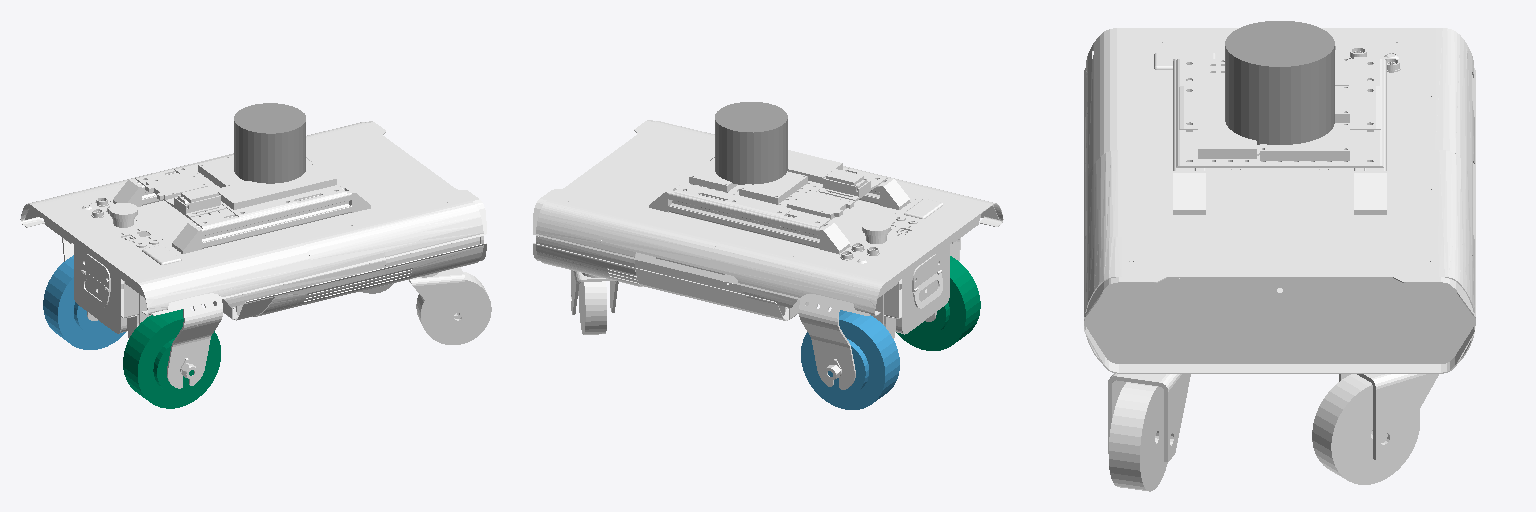
The robot description file, URDF, robot "neor":
<?xml version="1.0" encoding="utf-8"?>
<!-- This URDF was automatically created by SolidWorks to URDF Exporter! Originally created by [author] ([email redacted]) 
     Commit Version: 1.5.1-0-g916b5db  Build Version: 1.5.7152.31018
     For more information, please see http://wiki.ros.org/sw_urdf_exporter -->
<robot
  name="neor">
  <link 
    name="base_link">
    <inertial>
      <origin
        xyz="0.167879507365628 -0.00359252647980702 0.119298610168138"
        rpy="0 0 0" />
      <mass
        value="1.99769813489116" />
      <inertia
        ixx="0.00884194890576968"
        ixy="-2.85763205109085E-07"
        ixz="1.13692269308844E-06"
        iyy="0.0122849475045731"
        iyz="2.62546849263556E-05"
        izz="0.0198557145704335" />
    </inertial>
    <visual>
      <origin
        xyz="0 0 0"
        rpy="0 0 0" />
      <geometry>
        <mesh
          filename="package://neor/meshes/base_link.STL" />
      </geometry>
      <material
        name="">
        <color
          rgba="1 1 1 1" />
      </material>
    </visual>
    <collision>
      <origin
        xyz="0 0 0"
        rpy="0 0 0" />
      <geometry>
        <mesh
          filename="package://neor/meshes/base_link.STL" />
      </geometry>
    </collision>
  </link>
  <link
    name="left_wheel_link">
    <inertial>
      <origin
        xyz="0 2.77555756156289E-17 6.93889390390723E-18"
        rpy="0 0 0" />
      <mass
        value="5.42406230688666" />
      <inertia
        ixx="0.00666461186501377"
        ixy="-4.34780728173011E-17"
        ixz="-3.46065314223795E-08"
        iyy="0.0108754737237616"
        iyz="1.48898597957356E-17"
        izz="0.00666462264232009" />
    </inertial>
    <visual>
      <origin
        xyz="0 0 0"
        rpy="0 0 0" />
      <geometry>
        <mesh
          filename="package://neor/meshes/left_wheel_link.STL" />
      </geometry>

    </visual>
    <collision>
      <origin
        xyz="0 0 0"
        rpy="0 0 0" />
      <geometry>
        <mesh
          filename="package://neor/meshes/left_wheel_link.STL" />
      </geometry>
    </collision>
  </link>
  <joint
    name="left_wheel_joint"
    type="continuous">
    <origin
      xyz="0 0.11025 0"
      rpy="0 0 0" />
    <parent
      link="base_link" />
    <child
      link="left_wheel_link" />
    <axis
      xyz="0 1 0" />
    <limit
      lower="-3.14"
      upper="3.14"
      effort="0"
      velocity="0" />
  </joint>
  <link
    name="right_wheel_Link">
    <inertial>
      <origin
        xyz="1.11022302462516E-16 0 0"
        rpy="0 0 0" />
      <mass
        value="5.42406230688665" />
      <inertia
        ixx="0.00666458263690274"
        ixy="-4.33823931917284E-17"
        ixz="-5.3225217388757E-09"
        iyy="0.0108754737237616"
        iyz="1.47257298016766E-17"
        izz="0.0066646518704311" />
    </inertial>
    <visual>
      <origin
        xyz="0 0 0"
        rpy="0 0 0" />
      <geometry>
        <mesh
          filename="package://neor/meshes/right_wheel_Link.STL" />
      </geometry>
    </visual>
    <collision>
      <origin
        xyz="0 0 0"
        rpy="0 0 0" />
      <geometry>
        <mesh
          filename="package://neor/meshes/right_wheel_Link.STL" />
      </geometry>
    </collision>
  </link>
  <joint
    name="right_wheel_joint"
    type="continuous">
    <origin
      xyz="0 -0.11025 0"
      rpy="0 0 0" />
    <parent
      link="base_link" />
    <child
      link="right_wheel_Link" />
    <axis
      xyz="0 1 0" />
    <limit
      lower="-3.14"
      upper="3.14"
      effort="0"
      velocity="0" />
  </joint>
  <link
    name="left_caster_Link">
    <inertial>
      <origin
        xyz="0.0115894835490932 -0.0160834240912808 -0.0271810314838372"
        rpy="0 0 0" />
      <mass
        value="0.0457759696915572" />
      <inertia
        ixx="4.32568497674313E-05"
        ixy="-2.58020492610068E-06"
        ixz="4.86678404730977E-06"
        iyy="4.49782650453277E-05"
        iyz="-6.75393340776466E-06"
        izz="4.36074022403523E-05" />
    </inertial>
    <visual>
      <origin
        xyz="0 0 0"
        rpy="0 0 0" />
      <geometry>
        <mesh
          filename="package://neor/meshes/left_caster_Link.STL" />
      </geometry>
      <material
        name="">
        <color
          rgba="1 1 1 1" />
      </material>
    </visual>
    <collision>
      <origin
        xyz="0 0 0"
        rpy="0 0 0" />
      <geometry>
        <mesh
          filename="package://neor/meshes/left_caster_Link.STL" />
      </geometry>
    </collision>
  </link>
  <joint
    name="left_caster_joint"
    type="continuous">
    <origin
      xyz="0.4006 0.1125 0.0465"
      rpy="0 0 0" />
    <parent
      link="base_link" />
    <child
      link="left_caster_Link" />
    <axis
      xyz="0 0 -1" />
    <limit
      lower="-3.14"
      upper="3.14"
      effort="0"
      velocity="0" />
  </joint>
  <link
    name="left_caster_wheel_Link">
    <inertial>
      <origin
        xyz="0 1.38777878078145E-17 0"
        rpy="0 0 0" />
      <mass
        value="0.232226528953357" />
      <inertia
        ixx="0.000250095566342319"
        ixy="6.15717679394067E-05"
        ixz="2.21629952945565E-19"
        iyy="0.000209016281398468"
        iyz="1.5657790917171E-19"
        izz="0.00016464860902793" />
    </inertial>
    <visual>
      <origin
        xyz="0 0 0"
        rpy="0 0 0" />
      <geometry>
        <mesh
          filename="package://neor/meshes/left_caster_wheel_Link.STL" />
      </geometry>
      <material
        name="">
        <color
          rgba="1 1 1 1" />
      </material>
    </visual>
    <collision>
      <origin
        xyz="0 0 0"
        rpy="0 0 0" />
      <geometry>
        <mesh
          filename="package://neor/meshes/left_caster_wheel_Link.STL" />
      </geometry>
    </collision>
  </link>
  <joint
    name="left_caster_wheel_joint"
    type="continuous">
    <origin
      xyz="0.024532 -0.034044 -0.066"
      rpy="0 0 0" />
    <parent
      link="left_caster_Link" />
    <child
      link="left_caster_wheel_Link" />
    <axis
      xyz="-0.81131 -0.58462 0" />
  </joint>
  <link
    name="right_caster_Link">
    <inertial>
      <origin
        xyz="0.0188041520422844 -0.00627670432990625 -0.0271810284056899"
        rpy="0 0 0" />
      <mass
        value="0.0457759516780475" />
      <inertia
        ixx="4.62921637504073E-05"
        ixy="-1.63379166334245E-06"
        ixz="7.89645340975582E-06"
        iyy="4.194292119082E-05"
        iyz="-2.6357777730359E-06"
        izz="4.36073573670601E-05" />
    </inertial>
    <visual>
      <origin
        xyz="0 0 0"
        rpy="0 0 0" />
      <geometry>
        <mesh
          filename="package://neor/meshes/right_caster_Link.STL" />
      </geometry>
      <material
        name="">
        <color
          rgba="1 1 1 1" />
      </material>
    </visual>
    <collision>
      <origin
        xyz="0 0 0"
        rpy="0 0 0" />
      <geometry>
        <mesh
          filename="package://neor/meshes/right_caster_Link.STL" />
      </geometry>
    </collision>
  </link>
  <joint
    name="right_caster_joint"
    type="continuous">
    <origin
      xyz="0.4006 -0.1125 0.0465"
      rpy="0 0 0" />
    <parent
      link="base_link" />
    <child
      link="right_caster_Link" />
    <axis
      xyz="0 0 -1" />
    <limit
      lower="-3.14"
      upper="3.14"
      effort="0"
      velocity="0" />
  </joint>
  <link
    name="right_caster_wheel_Link">
    <inertial>
      <origin
        xyz="-5.55111512312578E-17 0 0"
        rpy="0 0 0" />
      <mass
        value="0.232226528953358" />
      <inertia
        ixx="0.00017766232401311"
        ixy="3.89873545385007E-05"
        ixz="1.36110275740017E-19"
        iyy="0.000281449523727678"
        iyz="4.07814885635416E-19"
        izz="0.000164648609027931" />
    </inertial>
    <visual>
      <origin
        xyz="0 0 0"
        rpy="0 0 0" />
      <geometry>
        <mesh
          filename="package://neor/meshes/right_caster_wheel_Link.STL" />
      </geometry>
      <material
        name="">
        <color
          rgba="1 1 1 1" />
      </material>
    </visual>
    <collision>
      <origin
        xyz="0 0 0"
        rpy="0 0 0" />
      <geometry>
        <mesh
          filename="package://neor/meshes/right_caster_wheel_Link.STL" />
      </geometry>
    </collision>
  </link>
  <joint
    name="right_caster_wheel_joint"
    type="continuous">
    <origin
      xyz="0.039803 -0.013286 -0.066"
      rpy="0 0 0" />
    <parent
      link="right_caster_Link" />
    <child
      link="right_caster_wheel_Link" />
    <axis
      xyz="-0.31662 -0.94855 0" />
  </joint>

 
  <!--  手动添加激光雷达模型 -->
  <link name="laser_link">
    <visual>
      <geometry>
        <cylinder length="0.08" radius="0.05"/>
      </geometry>
    </visual>
  </link>
  <joint name ="2Dlaser_joints" type="fixed">
    <origin xyz="0.22 0.0 0.23" rpy="0.0 0.0 0.0"/>
    <parent link="base_link"/>
    <child link="laser_link"/>
  </joint>
<!--*********************************************************************-->

 <!--为link配置颜色-->
  <gazebo reference="base_link">
    <material>Gazebo/White</material>      <!--  (Yellow) (YellowGlow) (YellowTransparent)  (ZincYellow) (Yellow) (DarkYellow) -->
  </gazebo>

  <gazebo reference="right_caster_Link">
    <material>Gazebo/DarkGrey</material>
  </gazebo>

  <gazebo reference="left_caster_Link">
    <material>Gazebo/DarkGrey</material>
  </gazebo>

  <gazebo reference="left_caster_wheel_Link">
    <material>Gazebo/Black</material>
  </gazebo>

  <gazebo reference="right_caster_wheel_Link">
    <material>Gazebo/Black</material>
  </gazebo>
  
  <gazebo reference="left_wheel_link">
    <material>Gazebo/Black</material>
  </gazebo>

  <gazebo reference="right_wheel_Link">
    <material>Gazebo/Black</material>
  </gazebo>

  <gazebo reference="laser_link">
    <material>Gazebo/Black</material>
  </gazebo>
<!--*********************************************************************-->

<!--为机器人的关节 joint 添加传动机构-->>
  <transmission name="simple_trans_left_Back">
    <type>transmission_interface/SimpleTransmission</type>
    <joint name="left_wheel_joint">
      <hardwareInterface>EffortJointInterface</hardwareInterface>
    </joint>
    <actuator name="left_wheel_motor">
      <mechanicalReduction>50</mechanicalReduction>
      <hardwareInterface>EffortJointInterface</hardwareInterface>
    </actuator>
  </transmission>

  <transmission name="simple_trans_right_Back">
    <type>transmission_interface/SimpleTransmission</type>
    <joint name="right_wheel_jont">
      <hardwareInterface>EffortJointInterface</hardwareInterface>
    </joint>
    <actuator name="right_wheel_motor">
      <mechanicalReduction>50</mechanicalReduction>
      <hardwareInterface>EffortJointInterface</hardwareInterface>
    </actuator>
  </transmission>
<!--*********************************************************************-->

<!--为机器人添加差速控制插件-->  
  <gazebo>
    <plugin name="differential_drive_controller_left" filename="libgazebo_ros_diff_drive.so">
      <rosDebugLevel>Debug</rosDebugLevel>
      <publishWheelTF>true</publishWheelTF>
      <robotNamespace>/</robotNamespace>
      <publishTf>1</publishTf>
      <publishWheelJointState>true</publishWheelJointState>
      <alwaysOn>true</alwaysOn>
      <updateRate>100.0</updateRate>
      <legacyMode>true</legacyMode>
      <leftJoint>left_wheel_joint</leftJoint>
      <rightJoint>right_wheel_joint</rightJoint>
      <wheelSeparation>0.24</wheelSeparation>
      <wheelDiameter>0.14</wheelDiameter>
      <publishOdomTF>true</publishOdomTF>
      <wheelTorque>30</wheelTorque>
      <wheelAcceleration>0.15</wheelAcceleration>
      <commandTopic>cmd_vel</commandTopic>
      <odometryFrame>odom</odometryFrame> 
      <odometryTopic>odom</odometryTopic> 
      <odometrySource>1</odometrySource>
      <robotBaseFrame>base_link</robotBaseFrame>
    </plugin>
  </gazebo> 
<!--*********************************************************************-->

<!-- 手动添加深激光雷达仿真插件  -->
  <gazebo reference="laser_link">
    <sensor type="ray" name="head_laser_sensor">
      <pose>0 0 0 0 0 0</pose>
      <visualize>false</visualize>
      <update_rate>40</update_rate>
      <ray>
        <scan>
          <horizontal>
            <samples>720</samples>
            <resolution>1</resolution>
            <min_angle>-1.570796</min_angle>
            <max_angle>1.570796</max_angle>
          </horizontal>
        </scan>
        <range>
          <min>0.10</min>
          <max>30.0</max>
          <resolution>0.01</resolution>
        </range>
        <noise>
          <type>gaussian</type>
          <!-- Noise parameters based on published spec for Hokuyo laser
               achieving "+-30mm" accuracy at range < 10m.  A mean of 0.0m and
               stddev of 0.01m will put 99.7% of samples within 0.03m of the true
               reading. -->
          <mean>0.0</mean>
          <stddev>0.01</stddev>
        </noise>
      </ray>
      <plugin name="gazebo_ros_head_laser_controller" filename="libgazebo_ros_laser.so">
        <topicName>scan</topicName>
        <frameName>laser_link</frameName>
      </plugin>
    </sensor>
  </gazebo>
  
<!--*********************************************************************-->

 

</robot>

--- What the picture shows (computed from the rendered views, not written in the file) ---
3 views of the same robot in one strip: view 1: azimuth 30°, elevation 25°; view 2: azimuth 150°, elevation 25°; view 3: azimuth 270°, elevation 25° (orthographic).
Robot: neor — 8 links, 7 joints (6 continuous, 1 fixed); root link base_link; default pose: all joints at 0.
Visible links, largest first — view 1: base_link, laser_link, right_wheel_Link, left_wheel_link, right_caster_wheel_Link, right_caster_Link; view 2: base_link, laser_link, left_wheel_link, right_wheel_Link, left_caster_wheel_Link, left_caster_Link; view 3: base_link, laser_link, left_caster_wheel_Link, right_caster_wheel_Link, left_caster_Link, right_caster_Link.
Boxes of the visible links, x1=… form: base_link: x1=20, y1=121, x2=486, y2=388; laser_link: x1=234, y1=103, x2=305, y2=183; right_wheel_Link: x1=123, y1=309, x2=220, y2=408; left_wheel_link: x1=43, y1=255, x2=125, y2=349; right_caster_wheel_Link: x1=416, y1=272, x2=491, y2=344; right_caster_Link: x1=409, y1=267, x2=464, y2=329; base_link: x1=533, y1=120, x2=1003, y2=389; laser_link: x1=715, y1=102, x2=787, y2=184; left_wheel_link: x1=801, y1=310, x2=899, y2=409; right_wheel_Link: x1=896, y1=256, x2=980, y2=350; left_caster_wheel_Link: x1=578, y1=281, x2=606, y2=334; left_caster_Link: x1=571, y1=270, x2=618, y2=314; base_link: x1=1084, y1=28, x2=1475, y2=373; laser_link: x1=1225, y1=21, x2=1334, y2=144; left_caster_wheel_Link: x1=1312, y1=374, x2=1419, y2=484; right_caster_wheel_Link: x1=1109, y1=382, x2=1167, y2=491; left_caster_Link: x1=1339, y1=374, x2=1438, y2=459; right_caster_Link: x1=1108, y1=373, x2=1190, y2=461.
Bounding box of the posed robot: 0.5688 × 0.357 × 0.3395 m (x, y, z).
Meshes: 7 distinct files referenced, 7 mesh visuals loaded (7 binary STL).
